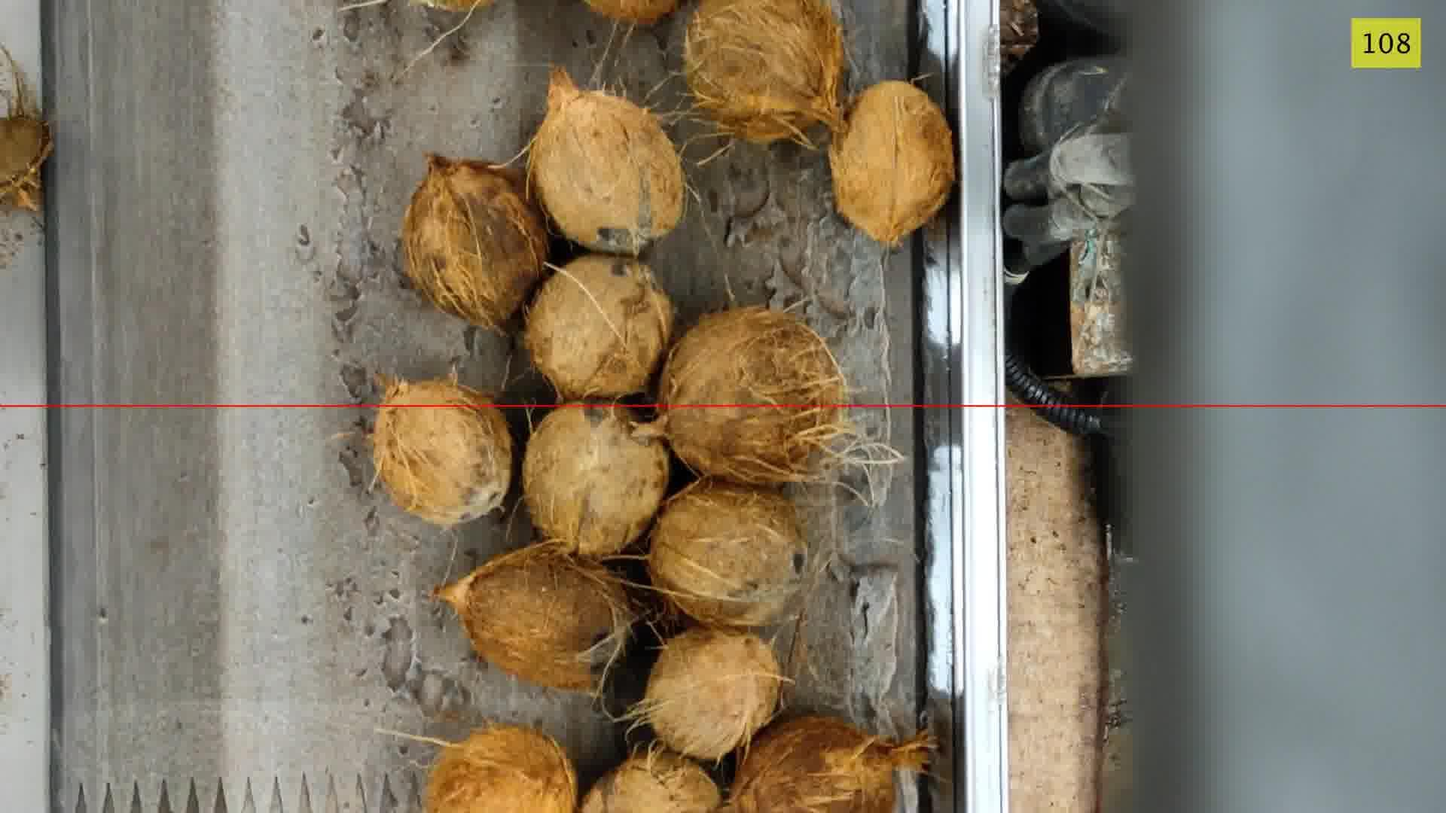Coconut: (658, 306, 853, 484), (433, 544, 635, 693), (528, 66, 685, 255), (398, 151, 549, 326), (647, 478, 807, 626), (683, 0, 844, 145), (522, 403, 670, 556), (522, 254, 674, 398), (370, 373, 513, 526), (828, 81, 956, 245), (629, 627, 785, 760), (730, 715, 931, 812), (425, 724, 578, 812), (579, 748, 721, 812), (0, 46, 53, 210), (584, 0, 680, 24), (408, 0, 495, 12)
